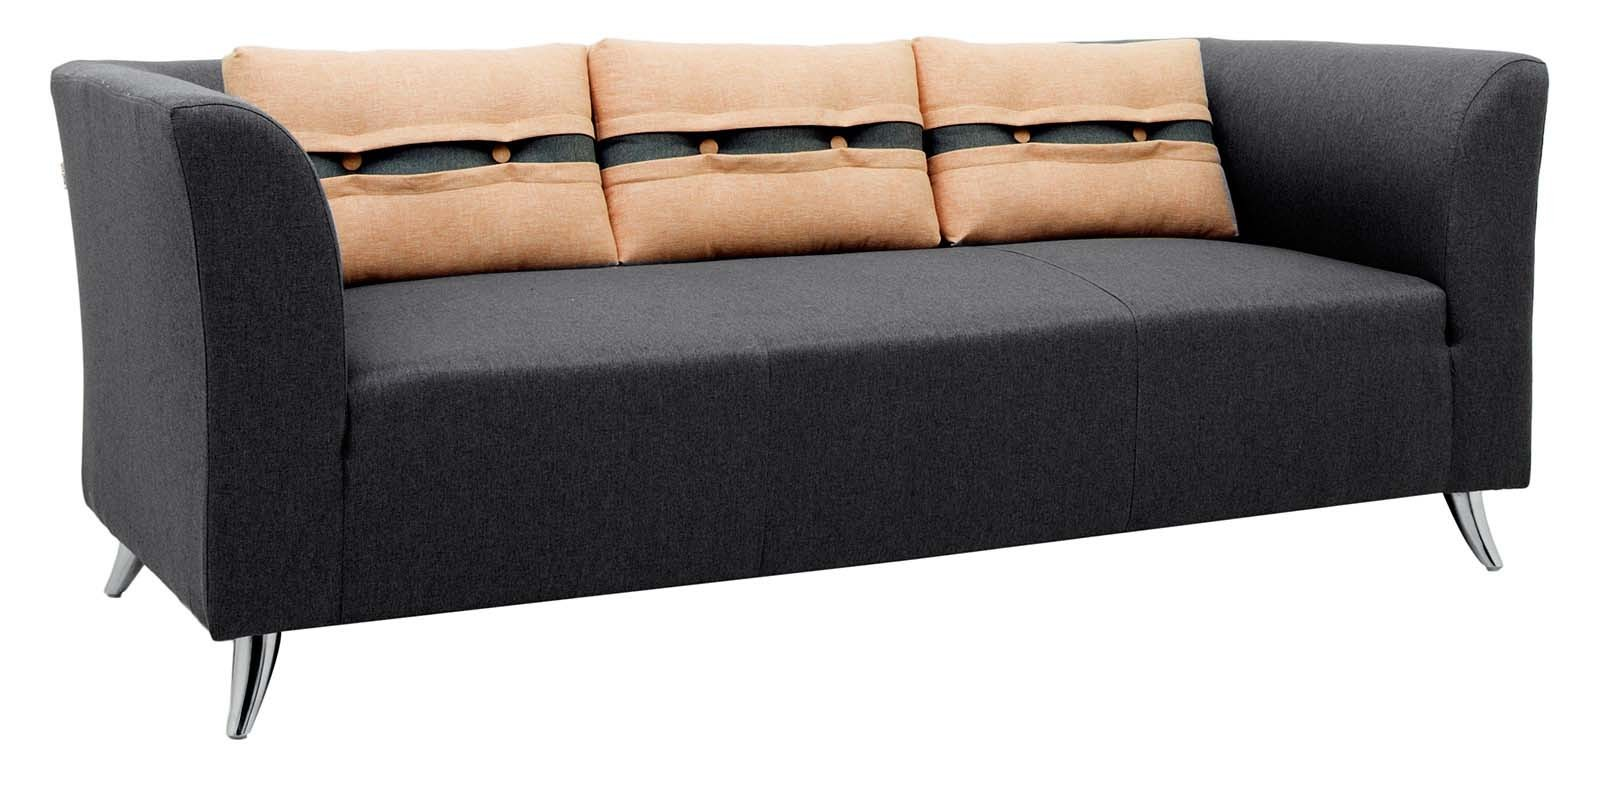Iowa Three Seater Sofa in Steel Grey Colour by Furnitech: (32, 13, 1599, 743)
